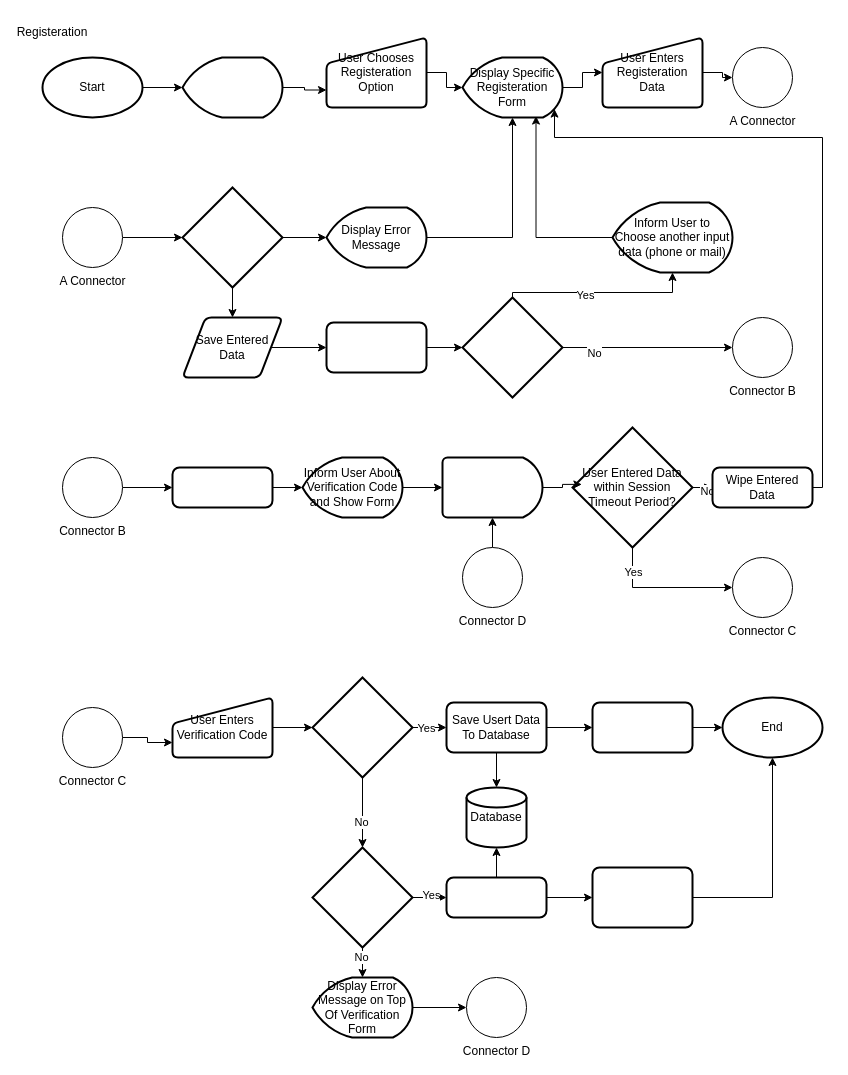
The diagram is 848 pixels wide and 1075 high, and some of its shapes have lost their labels. The centre of each missing label's shape, as x and y in pixels:
"Audit Attempt" belongs at (496,897).
"Authorize User" belongs at (642,727).
"Block User By Entered Credentials Temporarilty" belongs at (642,897).
"Display Registeration Options" belongs at (232,87).
"Query DB for Similar Data" belongs at (376,347).
"Same Identifying Data Exist?" belongs at (512,347).
"Send Verification Mail or message" belongs at (222,487).
"User Entered Correct Verification Code?" belongs at (362,727).
"Valid Data Format?" belongs at (232,237).
"Wait until user input" belongs at (492,487).
"Wrong Verification Code from More Than 3 Times?" belongs at (362,897).
